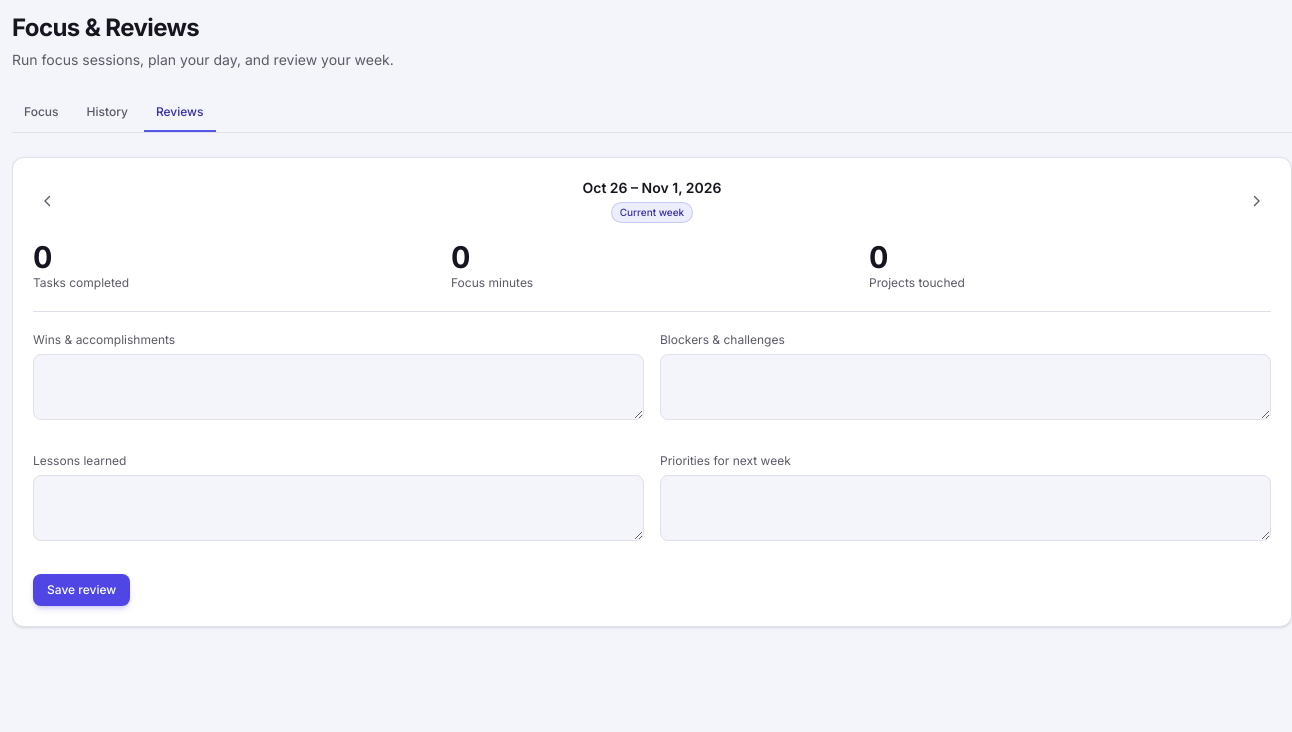
Test: ReviewsTab › creates a review for the current week and persists it
In the text box labelled "Wins & accomplishments": (338, 387) [33,354,644,420], type "Shipped the Focus module"
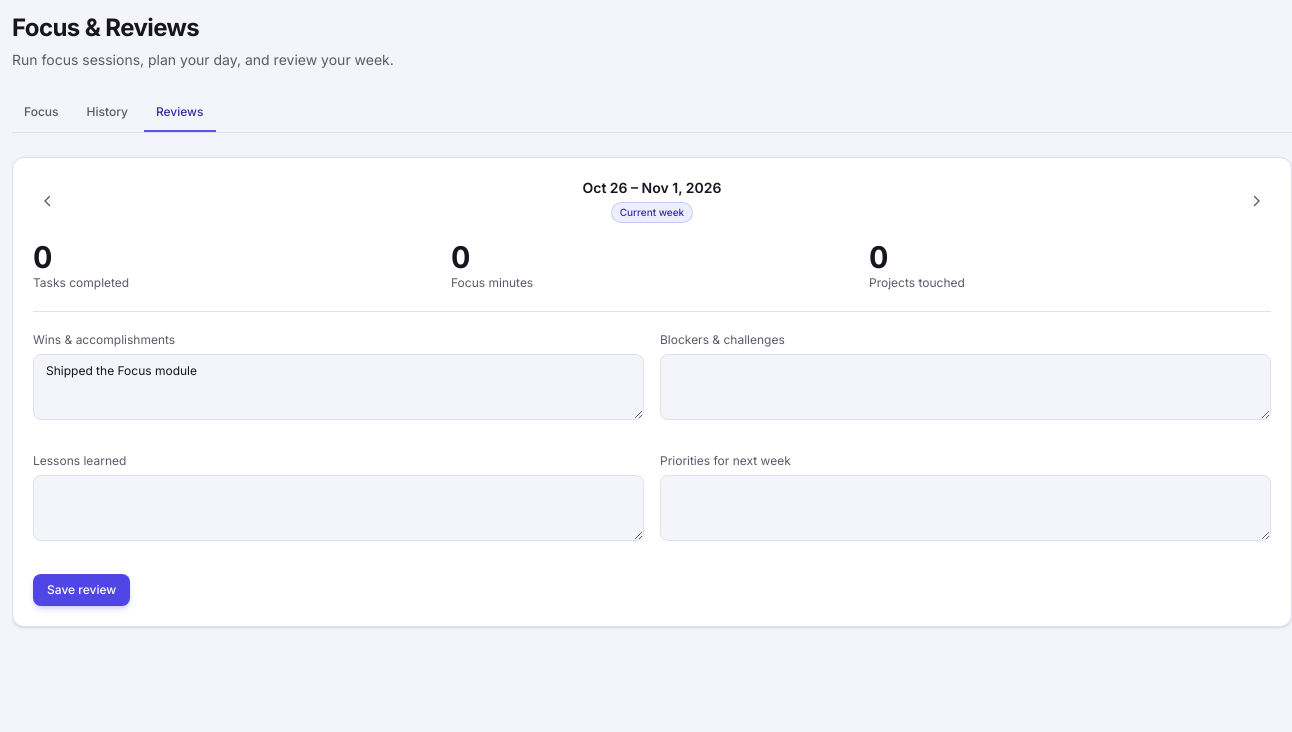
Click the button "Save review": (82, 590) [33,574,130,606]
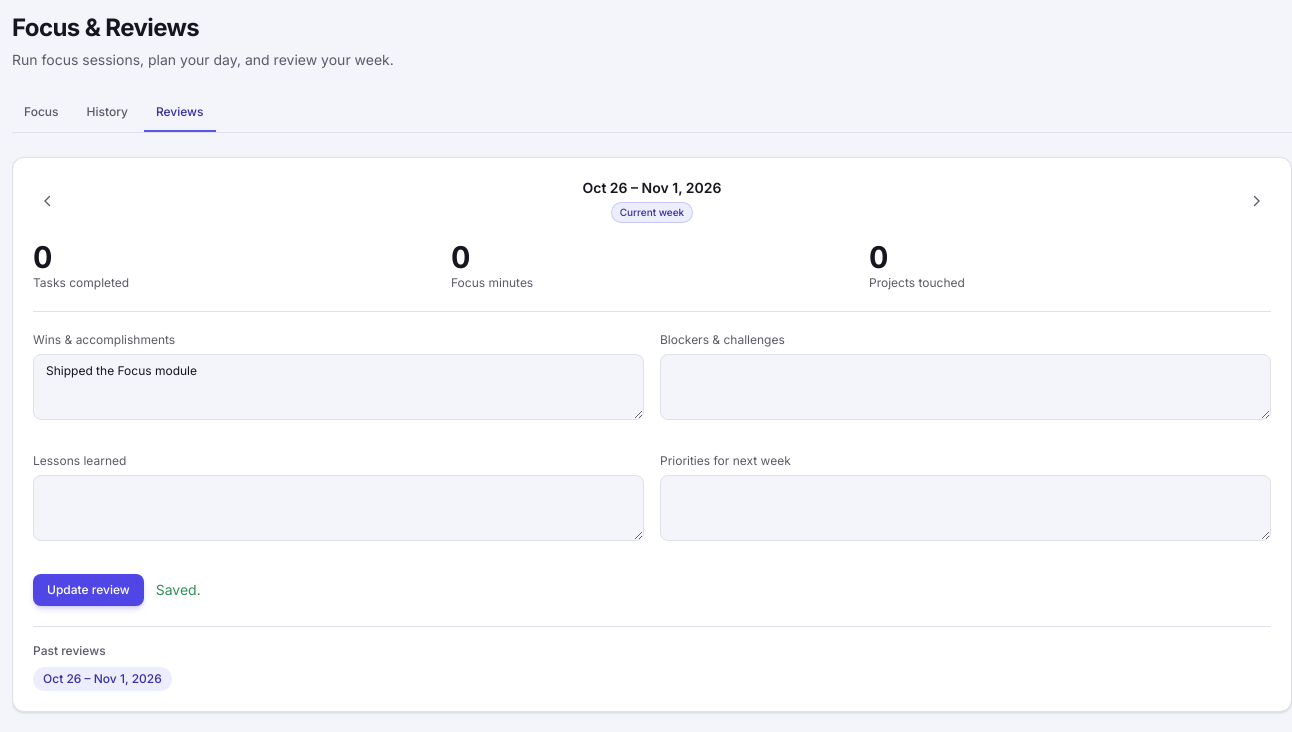
Now the text "Saved." is shown, box [156,580,201,600]
